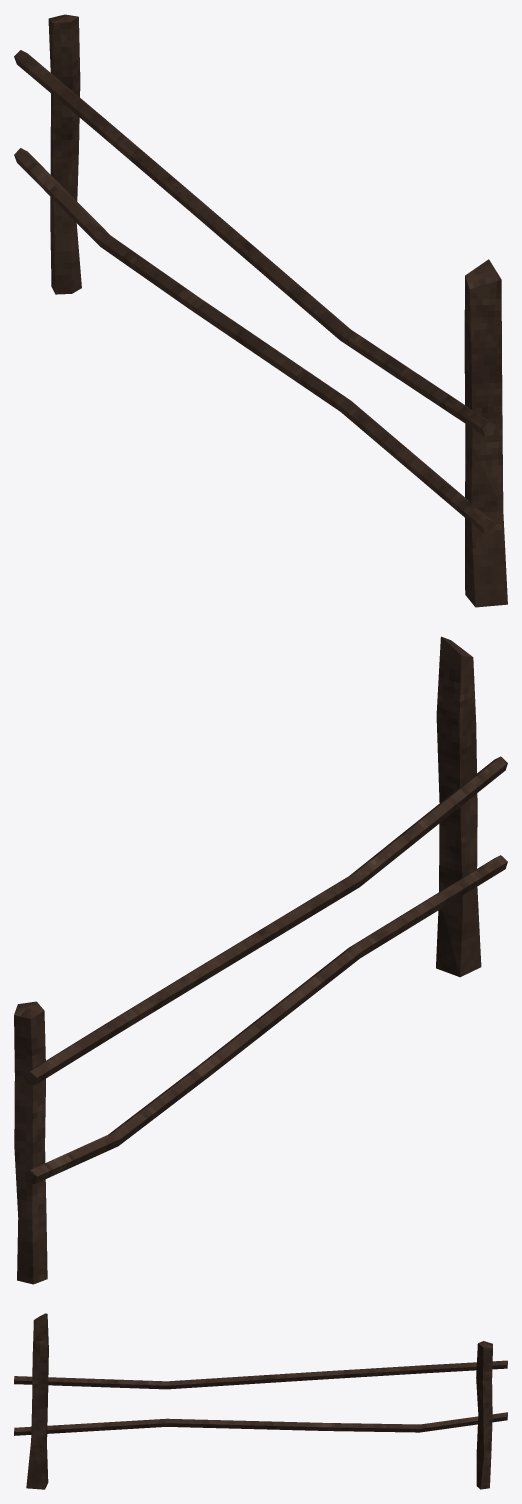
Rendered from fence2.fbx.
The picture shows the model from 3 angles, top to bottom: view 1: azimuth 30°, elevation 25°; view 2: azimuth 150°, elevation 25°; view 3: azimuth 270°, elevation 25°; orthographic projection. The views are drawn at different scales.
Parts seen in each view (by area): view 1: fence_2; view 2: fence_2; view 3: fence_2.
Part boxes in pixels (x1=…): fence_2: x1=14, y1=14, x2=507, y2=607; fence_2: x1=14, y1=636, x2=507, y2=1284; fence_2: x1=14, y1=1313, x2=507, y2=1489.
Size of the model in its own units: 15 by 286 by 112.
